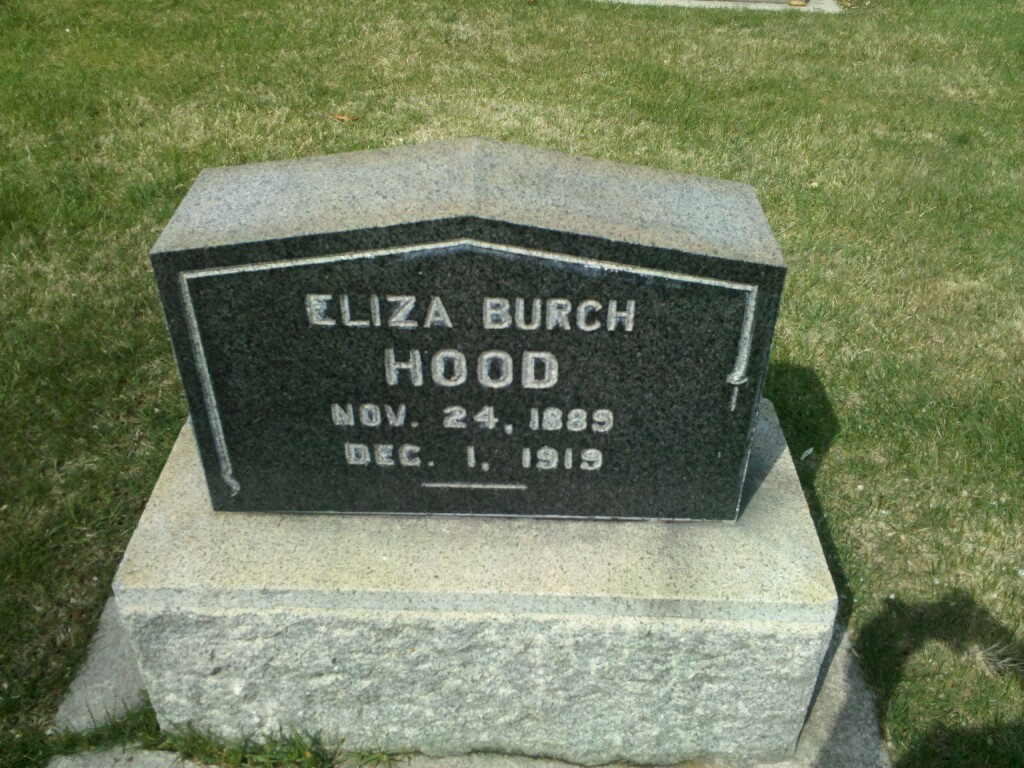upright: (90, 120, 852, 762)
